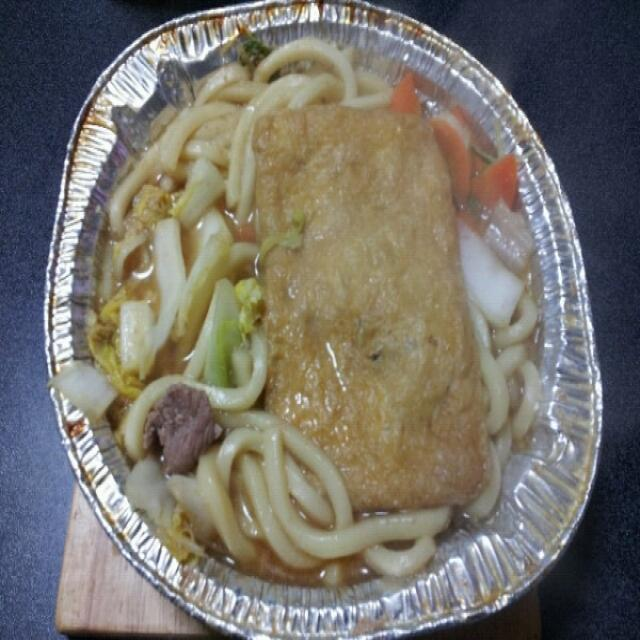面条主食: (44, 1, 586, 633)
